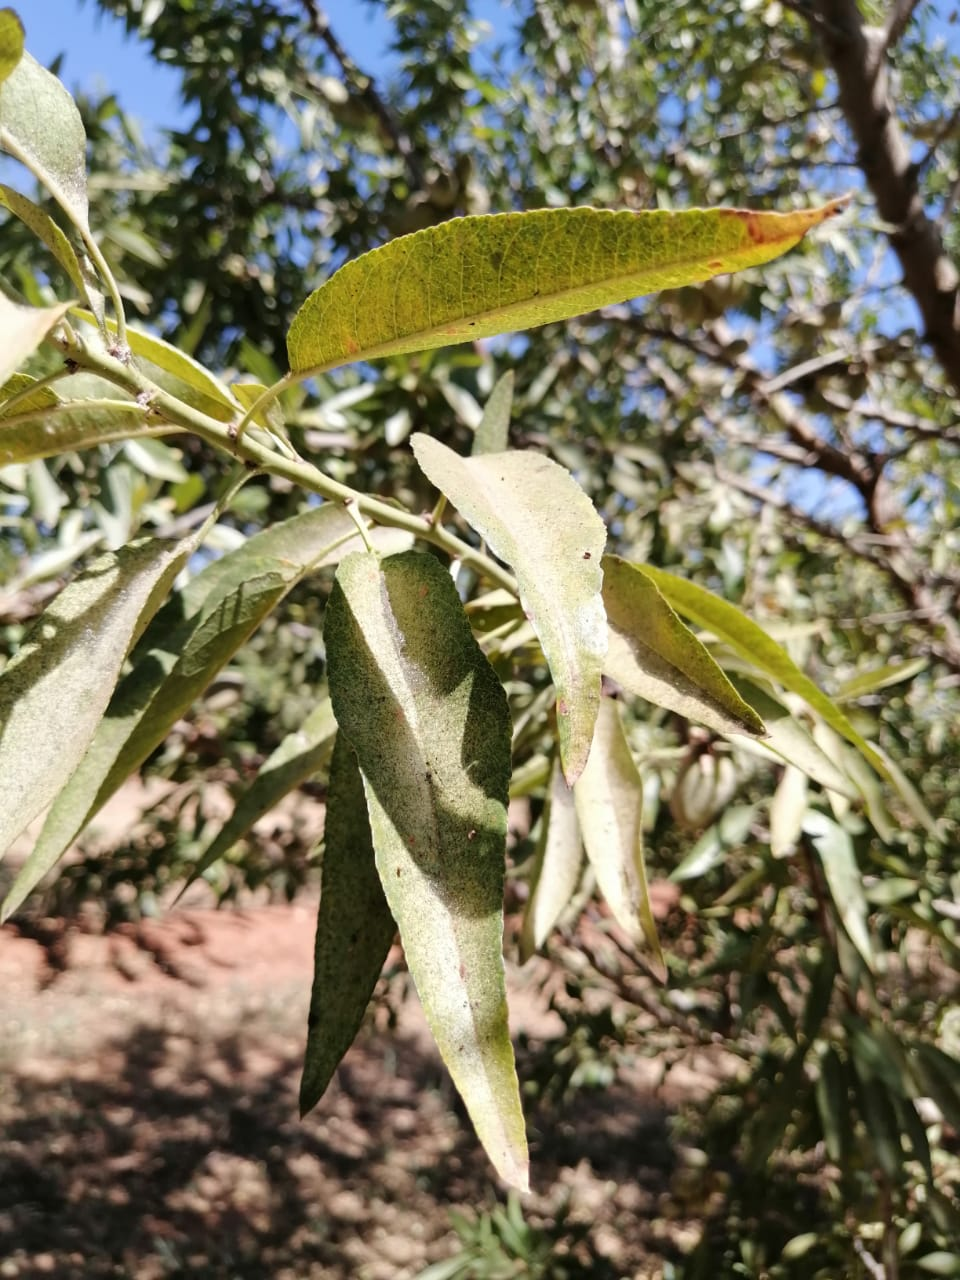acariens: (325, 549, 533, 1195), (284, 188, 853, 381), (1, 531, 201, 919), (407, 427, 610, 794)
